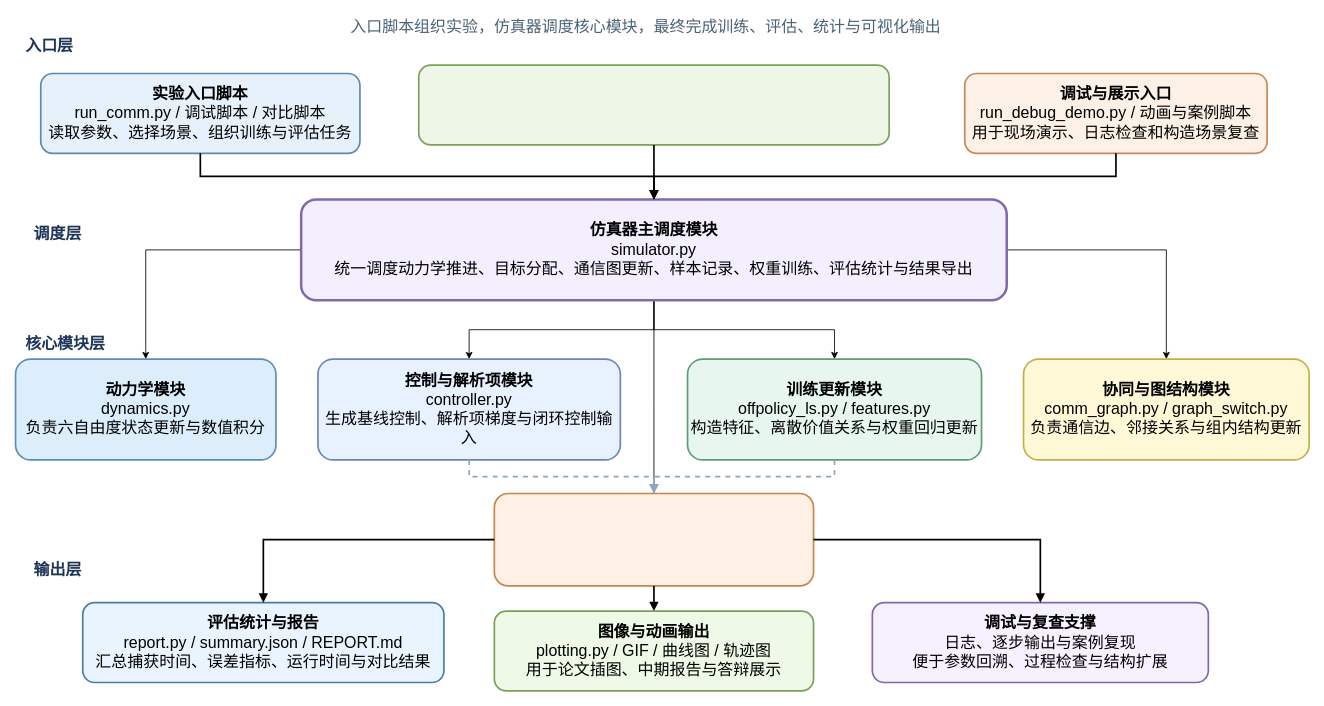
This 1324x706 diagram has some shape labels left out. The box of each missing label's shape, as (x1, y1, x2, y2) in pixels:
目标分配与场景组织 assignment / scenarios 负责“谁追谁”与不同实验布局的统一组织: (493, 492, 814, 586)
配置与场景参数 config.py / general_scenarios.py 统一管理实验规模、动力学参数、布局与偏置设置: (417, 64, 890, 145)
